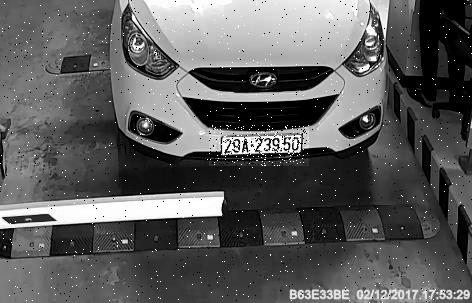License-plate: (210, 126, 310, 167)
